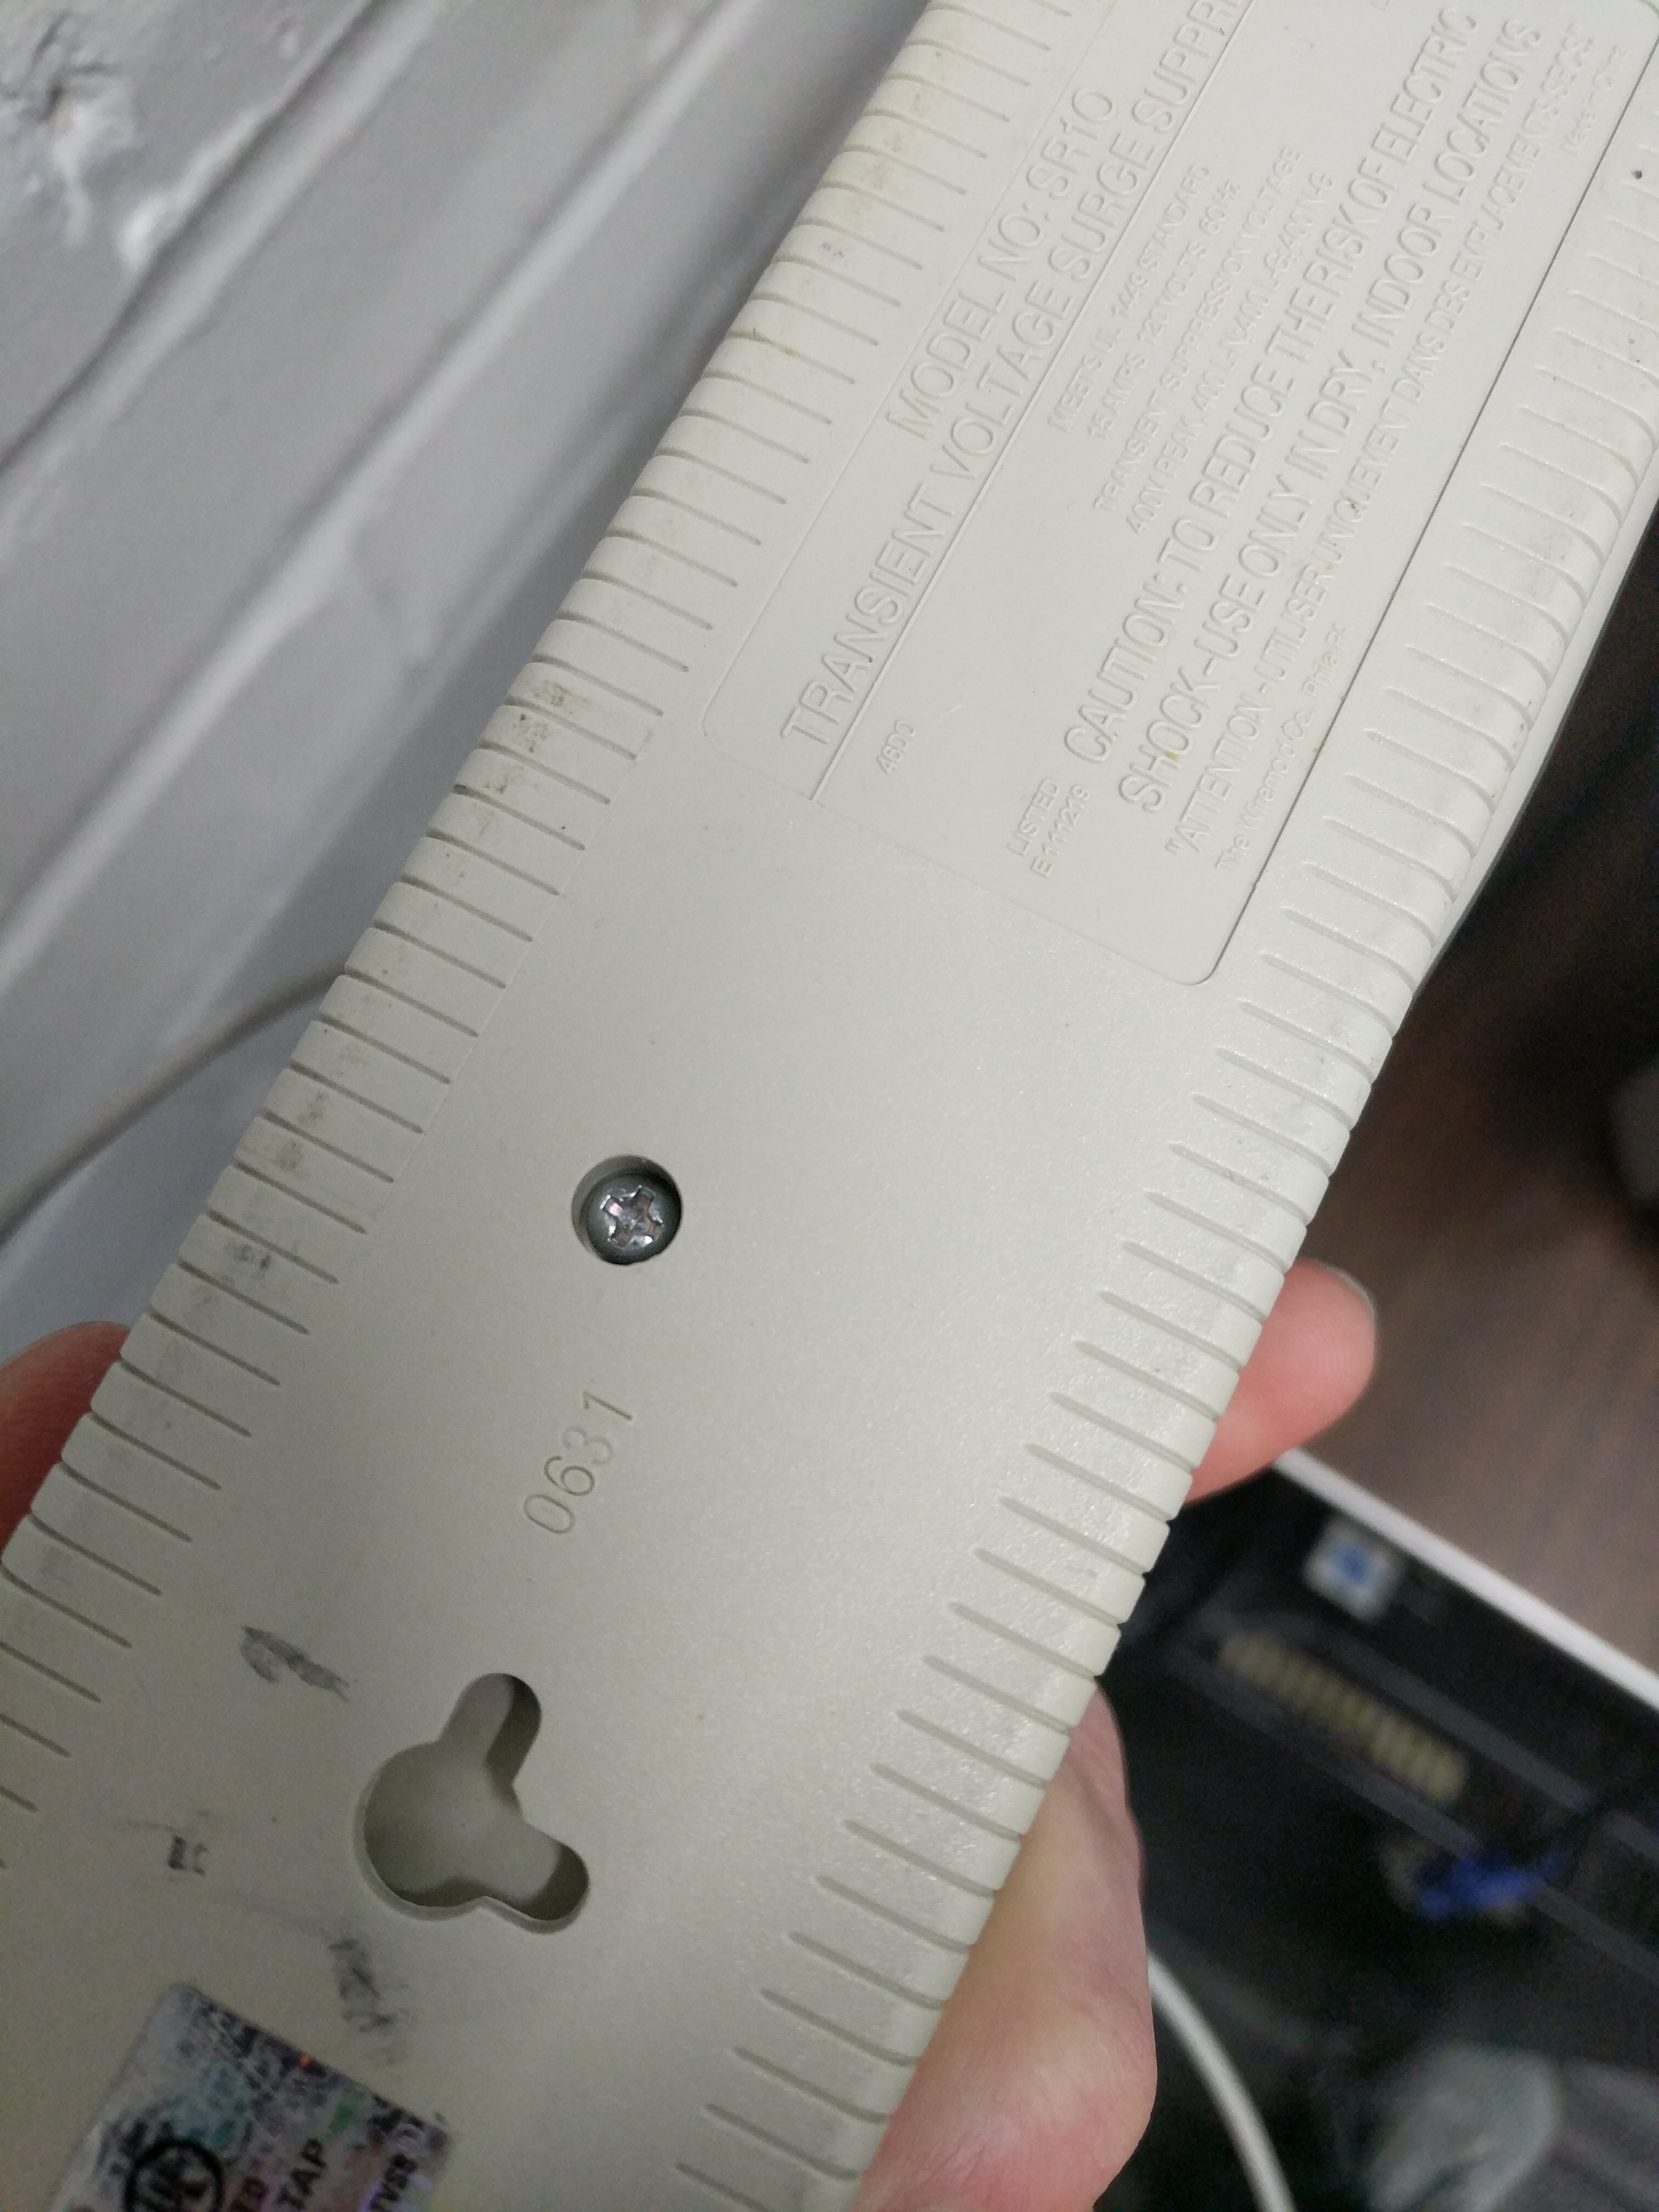cross_recessed_screw: (566, 1153, 685, 1261)
